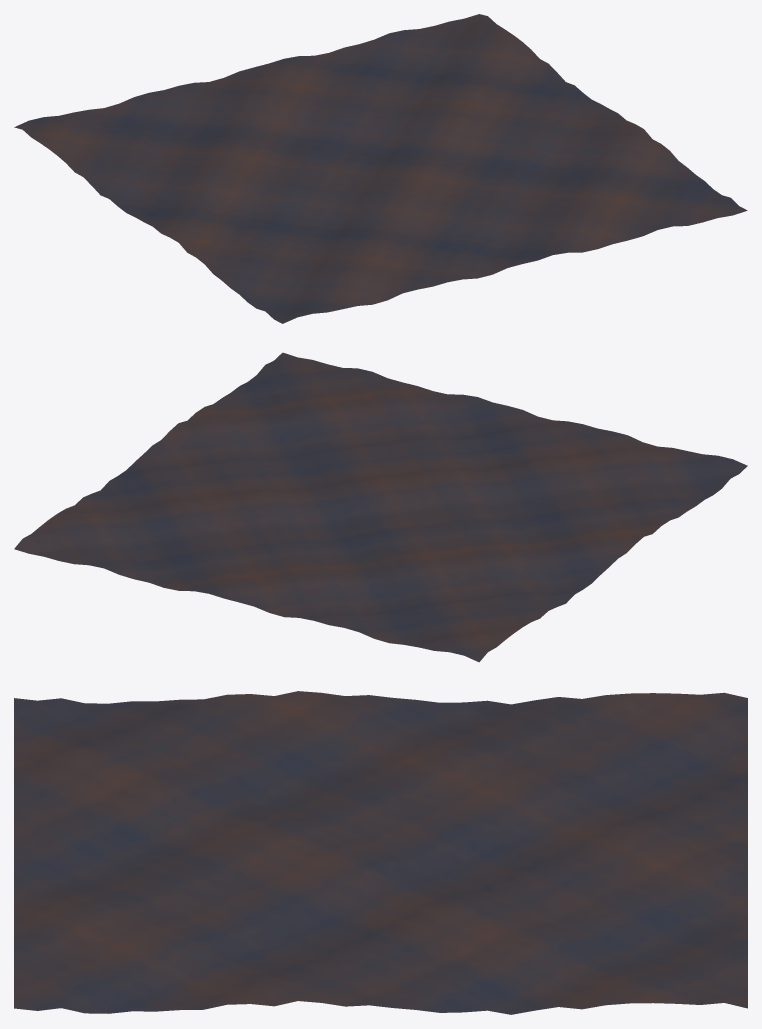
Rendered from MapBG_02_妖洞前殿岩彩底.glb.
3 views of the same model, one above another, from view 1: azimuth 30°, elevation 25°; view 2: azimuth 150°, elevation 25°; view 3: azimuth 270°, elevation 25° (orthographic). The views are drawn at different scales.
Parts seen in each view (by area): view 1: TerrainTile; view 2: TerrainTile; view 3: TerrainTile.
Boxes of the visible parts, x1,y1,x2,y2 form: TerrainTile: (14,14,747,323); TerrainTile: (14,352,747,662); TerrainTile: (14,691,747,1014).
Size of the model in its own units: 8 by 0.2004 by 8.
Materials: 1 (1 with a texture image).
